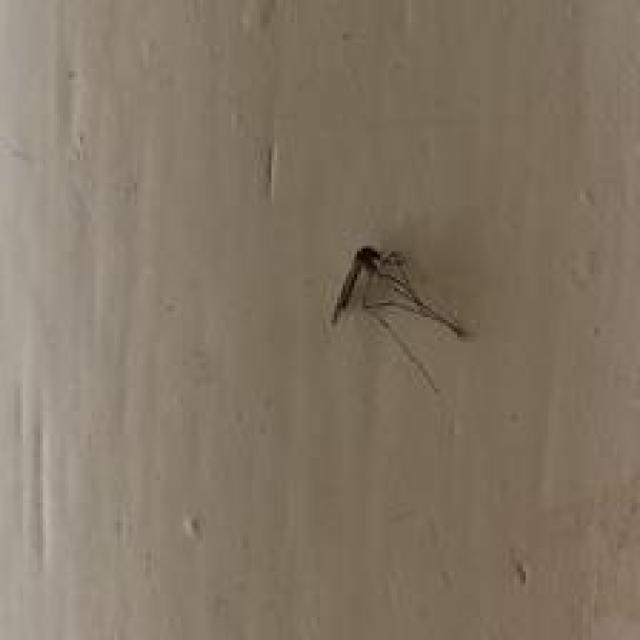Culex: (328, 243, 466, 394)
